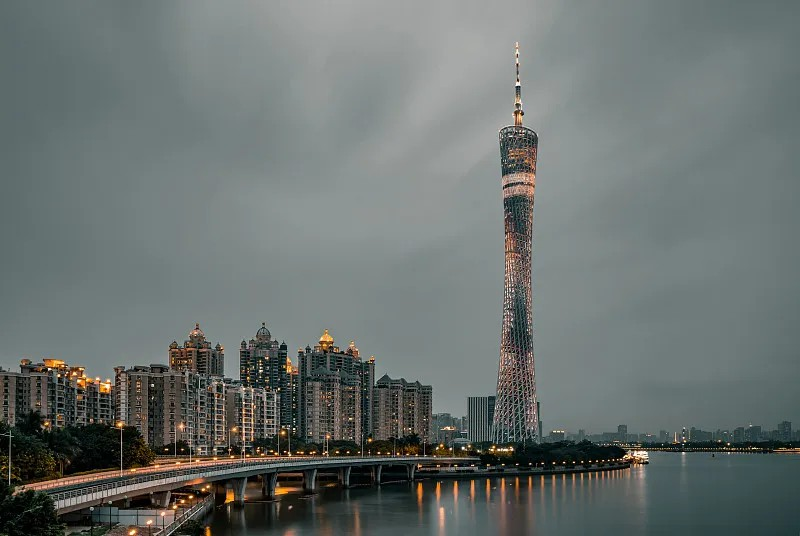Canton: (490, 41, 542, 445)
